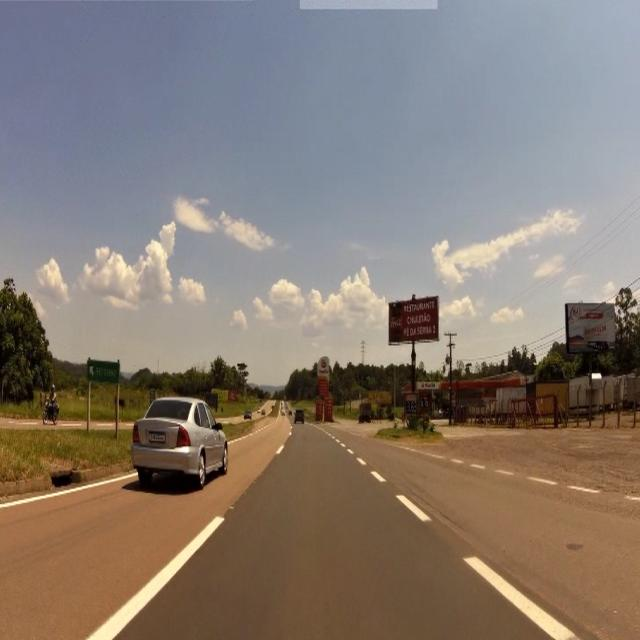I-4: (88, 361, 120, 384)
